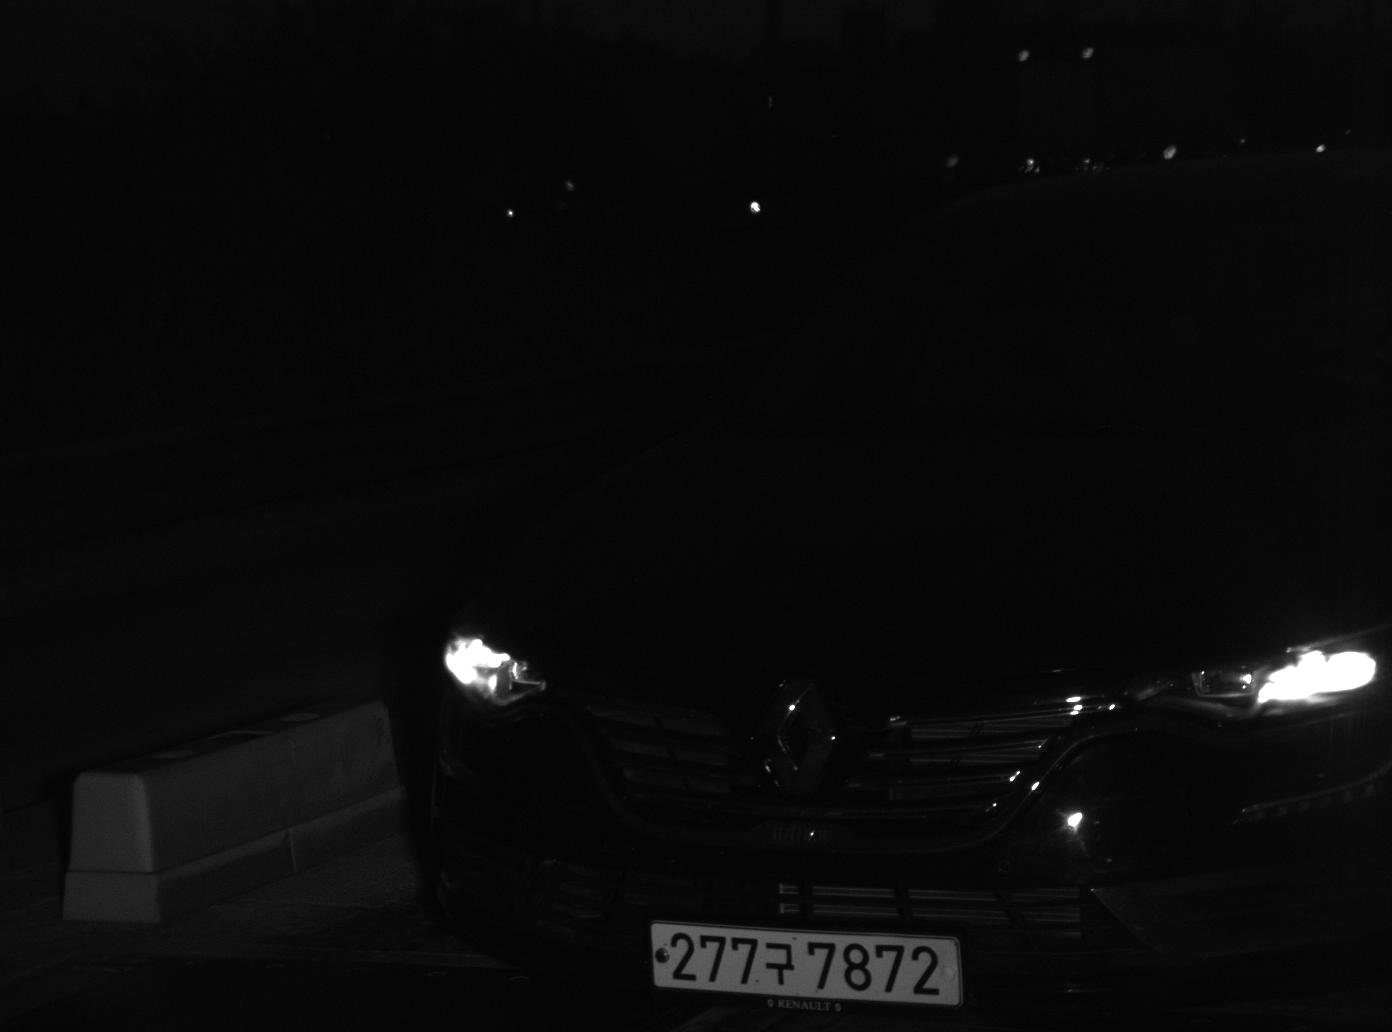car: (370, 100, 1392, 1032)
plate: (645, 917, 964, 1009)
